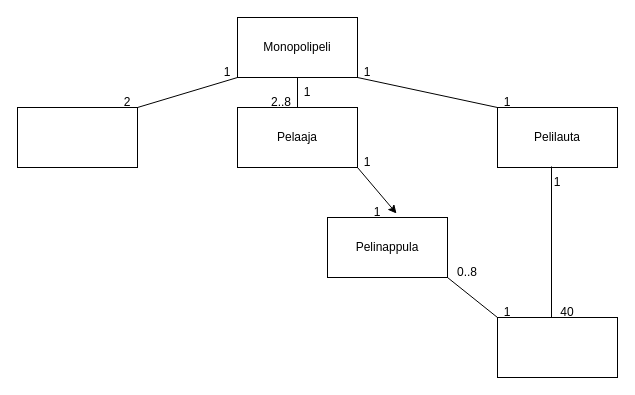
This 635x395 diagram has some shape labels left out. The box of each missing label's shape, as (x1, y1, x2, y2) in pixels:
Noppa: (16, 106, 138, 168)
Ruudut: (496, 316, 618, 378)
